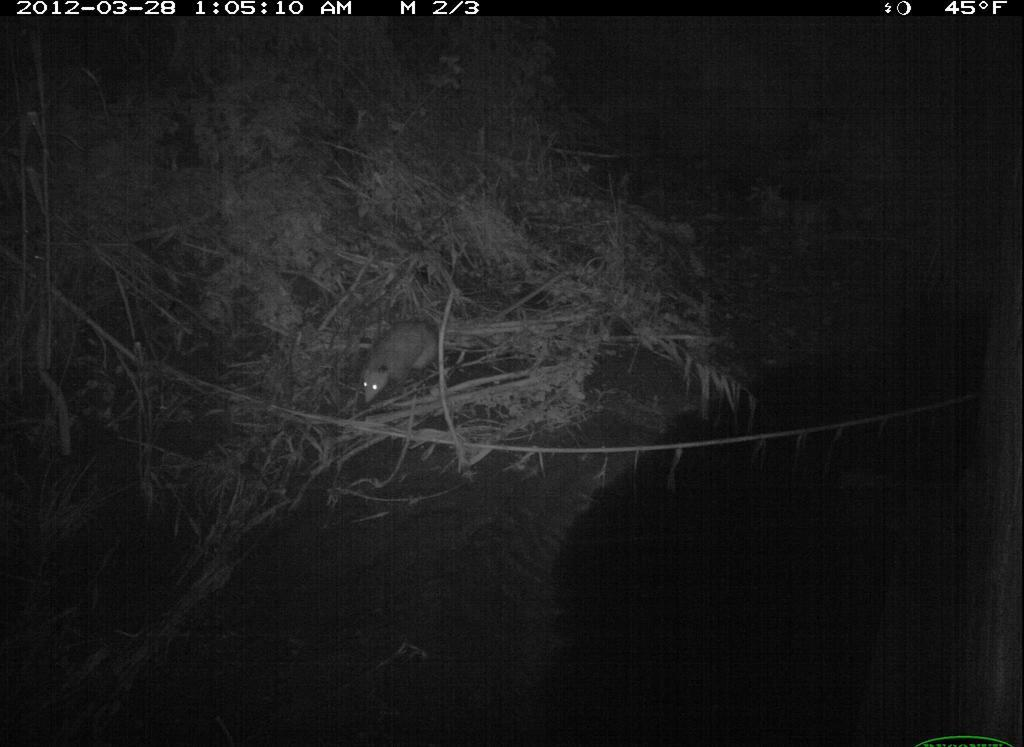opossum: (358, 314, 445, 417)
